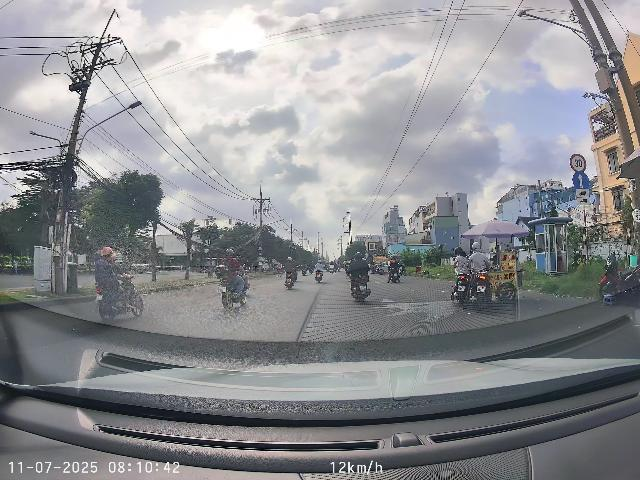127-toc-do-toi-da-30: (569, 153, 587, 172)
301a-cac-xe-chi-duoc-di-thang: (572, 171, 590, 189)
